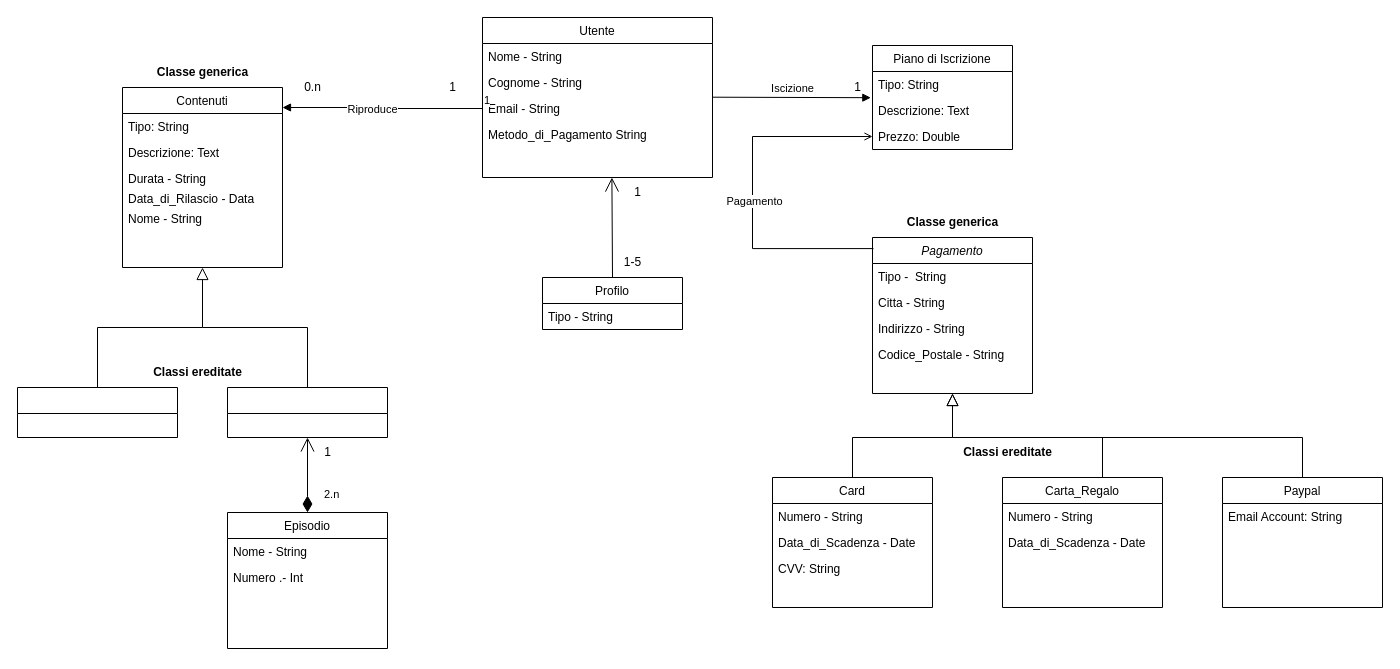
Image size: 1400x669. Some labels were removed from this diagram. Each missing label, with the centre of its shape:
Film: the point at 97,412
Serie: the point at 307,412
